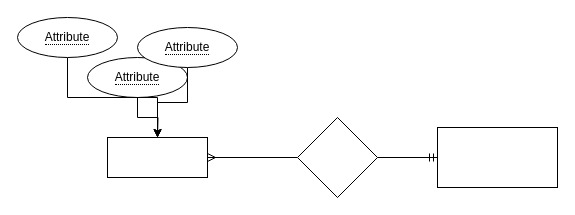
Some shapes in this 575 by 215 pixel diagram are drawn without their labels. The shapes that lost their labels are listed below. From the top down, each one's centre as x and y in pixels, then its label:
(x=157, y=157): Entity
(x=497, y=157): dsfdsfdfs
